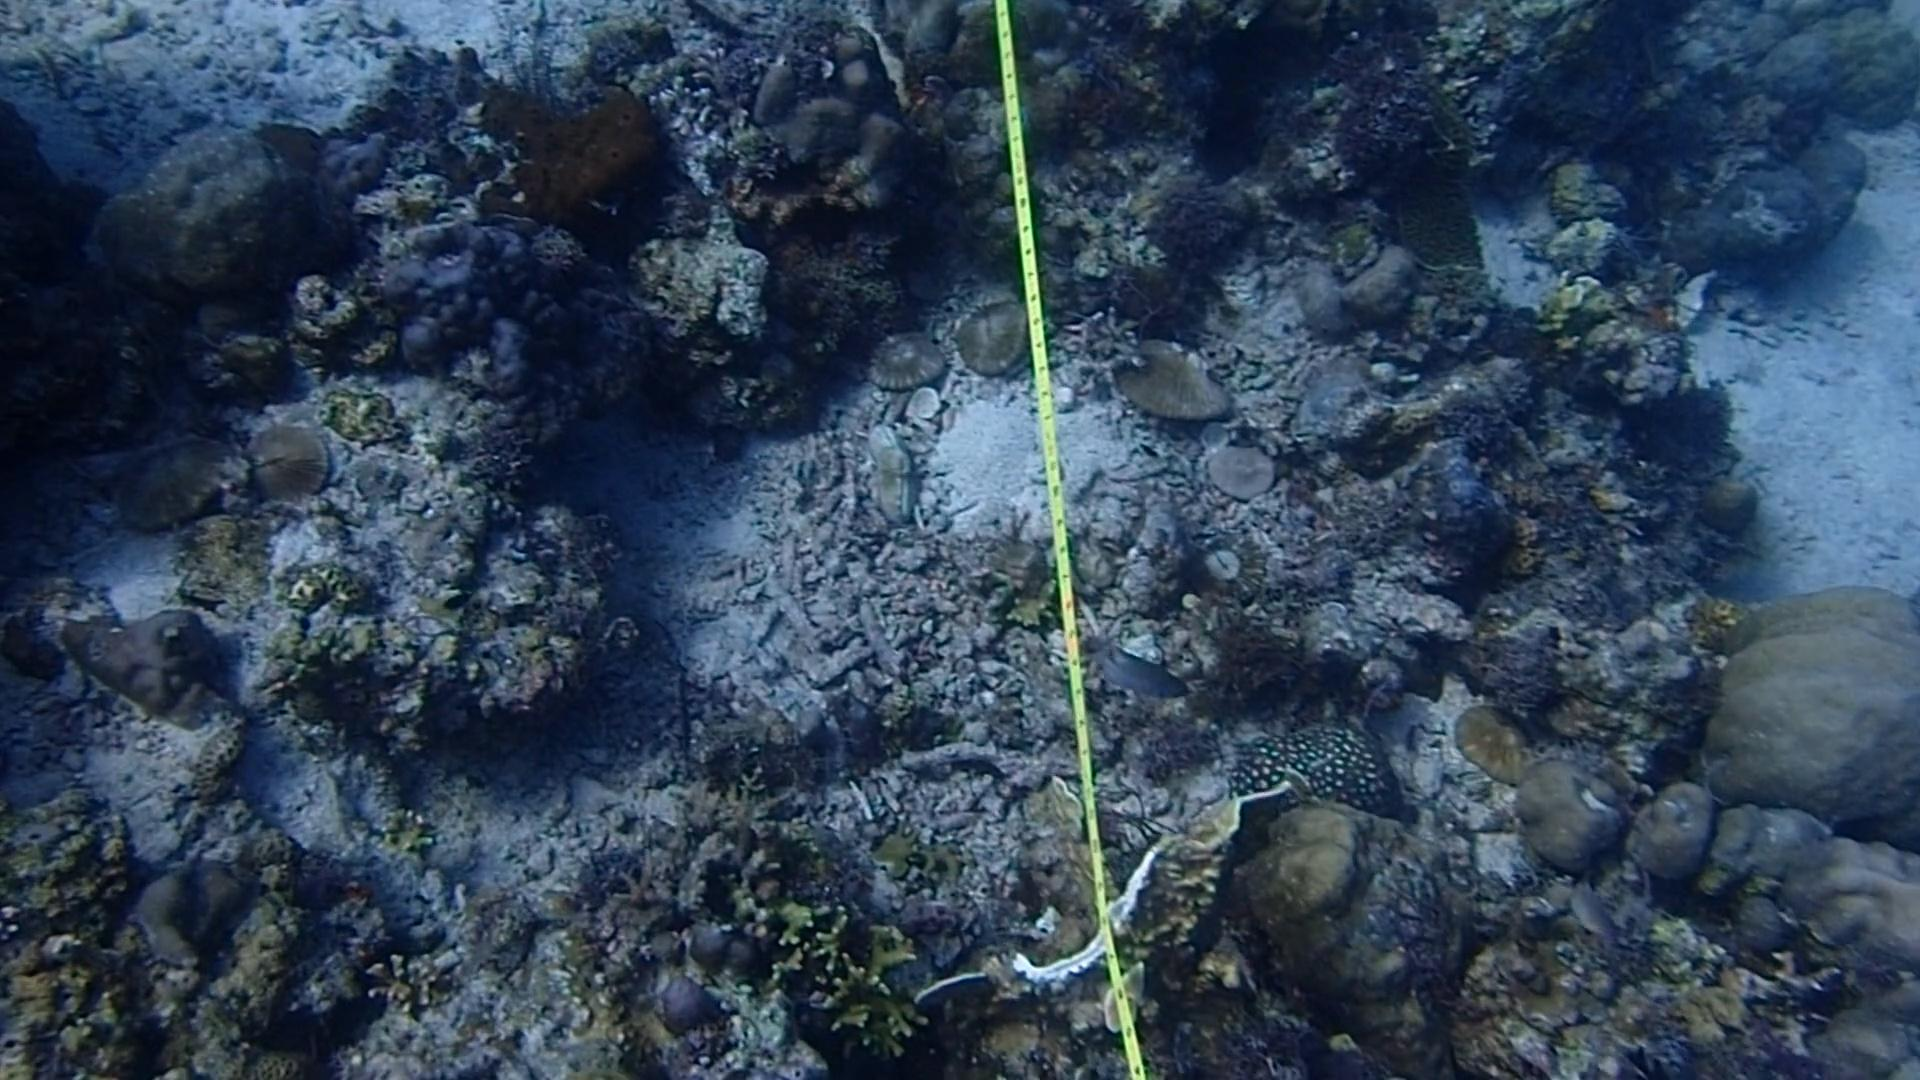Light Fish: (1091, 621, 1193, 709)
